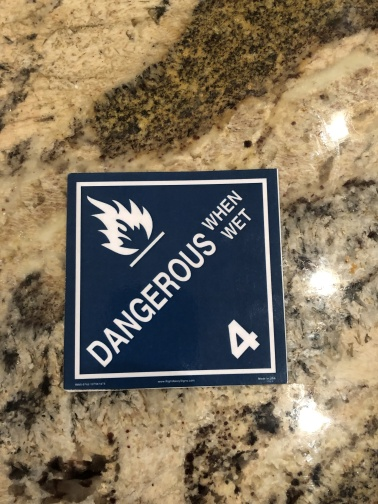DangerousWhenWet: (68, 174, 285, 381)
